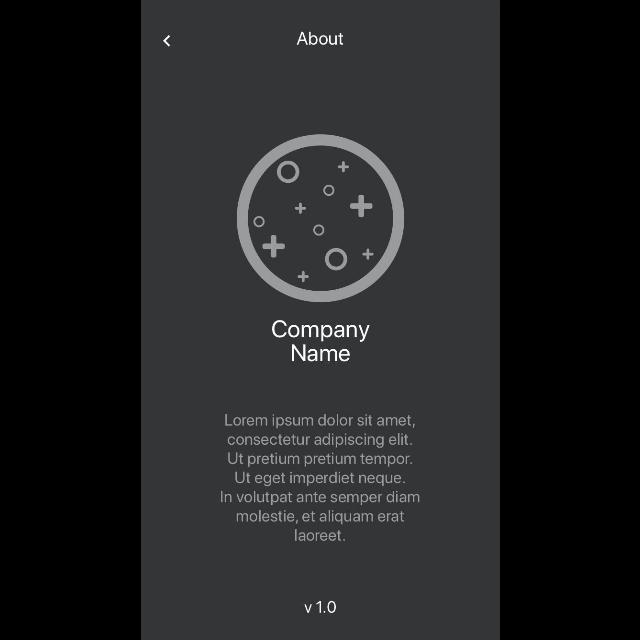icon: (162, 36, 170, 46)
image: (236, 136, 404, 302)
text: (220, 414, 420, 542), (272, 320, 370, 362), (296, 32, 344, 46), (304, 602, 336, 612)
